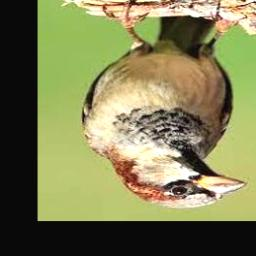Sparrow: (82, 0, 247, 208)
